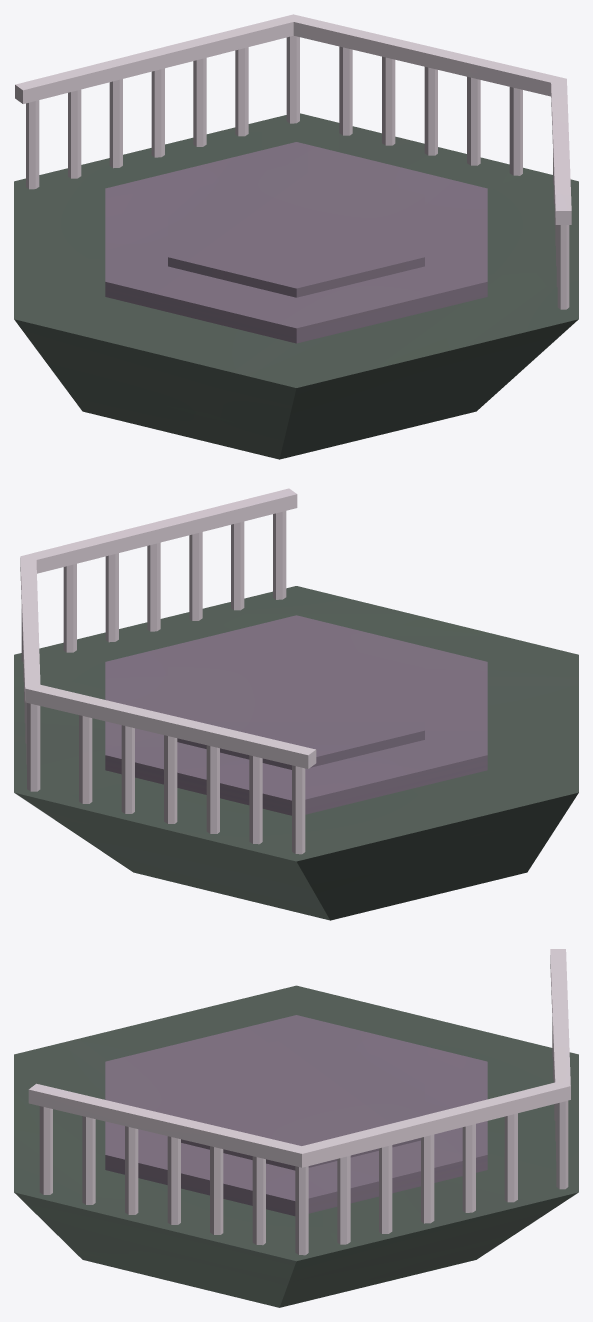
File: lvl1_isle_body3.glb
3 renders of one model, top to bottom at view 1: azimuth 30°, elevation 25°; view 2: azimuth 150°, elevation 25°; view 3: azimuth 270°, elevation 25°, orthographic.
Parts seen in each view (by area): view 1: lvl1_isle_body3; view 2: lvl1_isle_body3; view 3: lvl1_isle_body3.
Boxes of the visible parts, x1,y1,x2,y2 form: lvl1_isle_body3: (14, 14, 578, 459); lvl1_isle_body3: (14, 488, 578, 920); lvl1_isle_body3: (14, 949, 578, 1307).
Bounding box in the file's own units: 6.41 × 2.21 × 5.55.
1 material, 1 textured.
